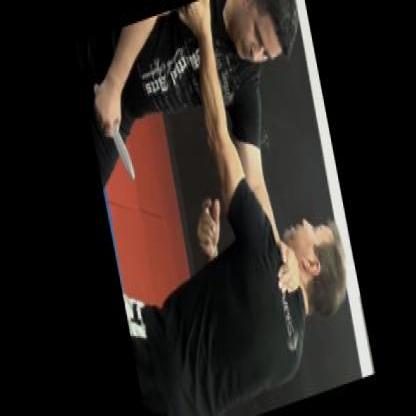knife: (87, 73, 134, 188)
